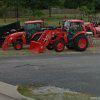Tractor: (20, 12, 100, 65)
